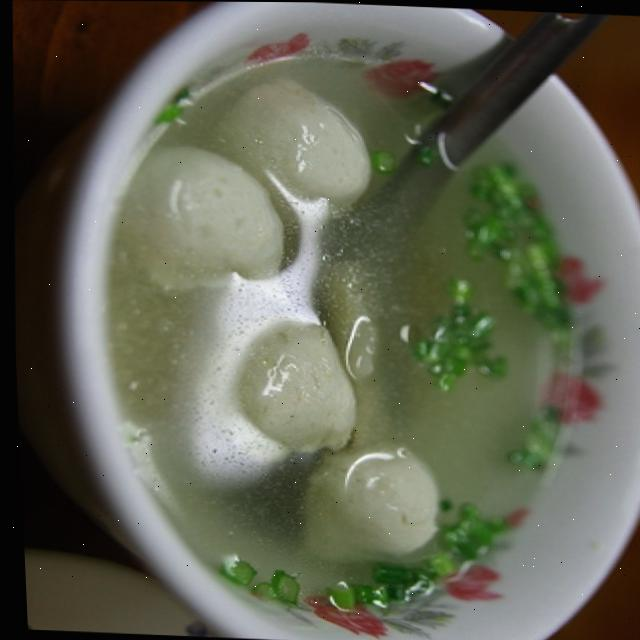熟制海鲜: (29, 0, 640, 640)
